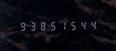eight: (37, 20, 46, 31)
five: (47, 20, 56, 31), (67, 19, 76, 30)
four: (77, 19, 86, 30), (87, 19, 96, 30)
nine: (17, 20, 26, 31)
one: (57, 20, 66, 30)
three: (27, 20, 36, 31)
